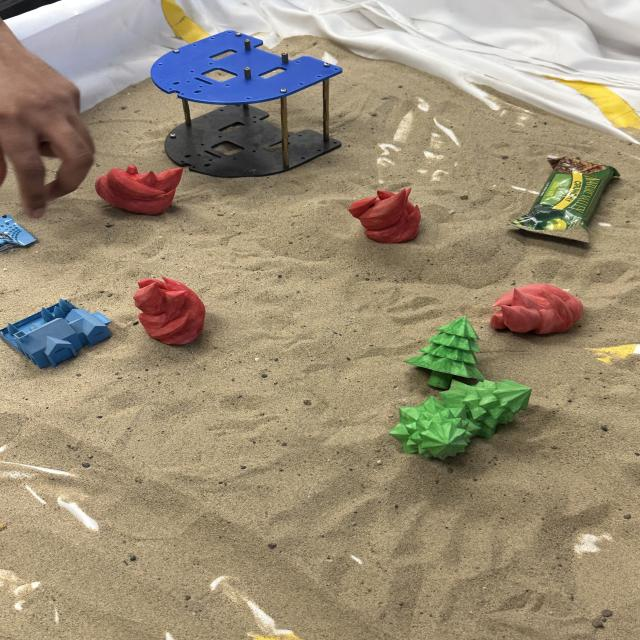fire: (131, 274, 207, 346), (493, 281, 584, 338), (97, 163, 184, 216), (347, 186, 422, 244)
house: (147, 28, 345, 179)
tree: (404, 313, 487, 389), (438, 378, 536, 440), (389, 394, 472, 462)
